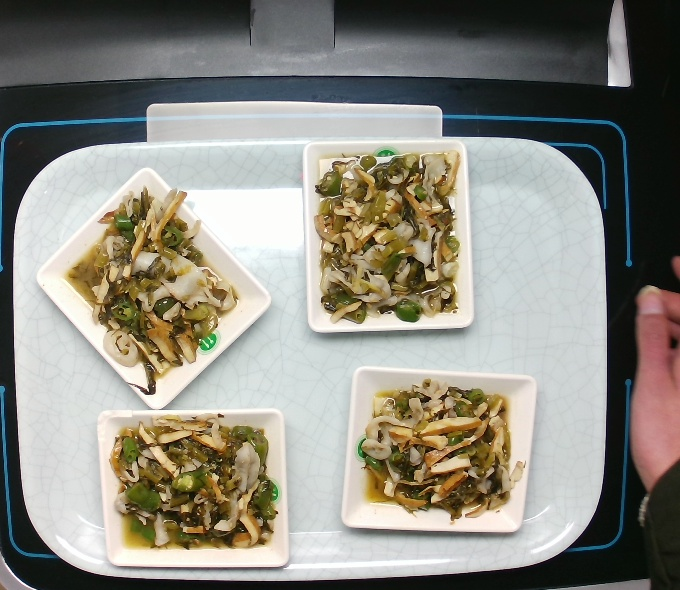wcq-YouYuXueCaiDouGan: (71, 182, 238, 399), (313, 149, 466, 327), (105, 416, 287, 558), (359, 379, 529, 527)
